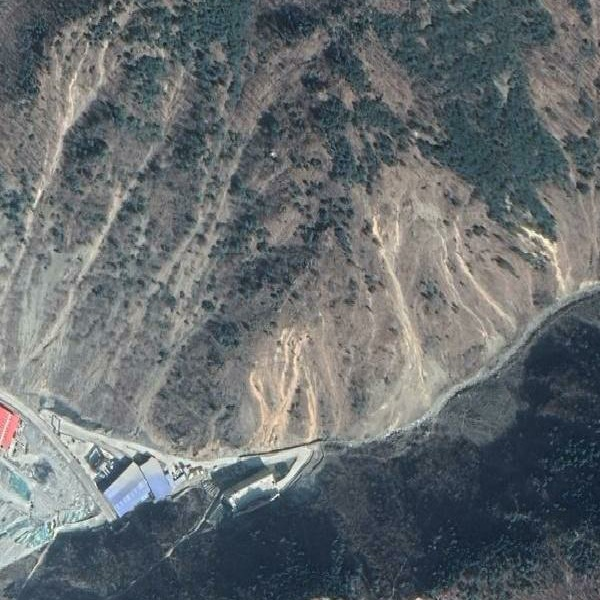slope: (357, 191, 452, 433), (237, 321, 339, 452), (438, 220, 521, 364), (509, 214, 590, 303)
